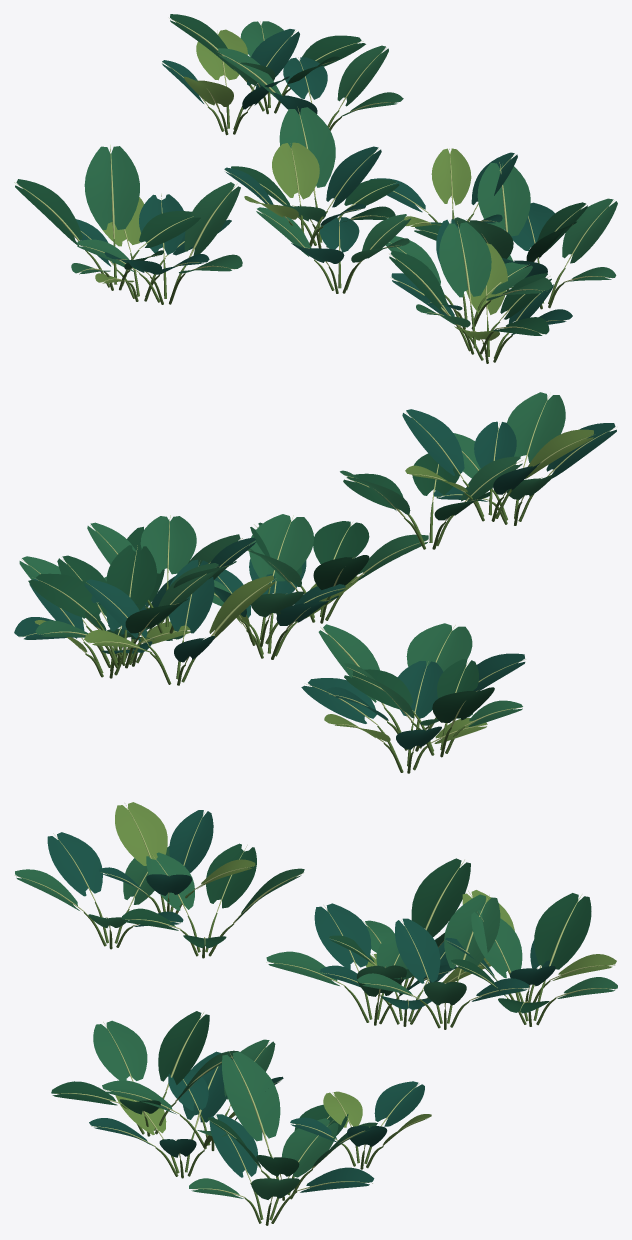
Rendered from tree_canopy.glb.
3 views of the same model, one above another, from view 1: azimuth 30°, elevation 25°; view 2: azimuth 150°, elevation 25°; view 3: azimuth 270°, elevation 25° (orthographic). The views are drawn at different scales.
Parts seen in each view (by area): view 1: tree_canopy; view 2: tree_canopy; view 3: tree_canopy.
Boxes of the visible parts, x1,y1,x2,y2 form: tree_canopy: [14, 14, 617, 363]; tree_canopy: [14, 392, 616, 773]; tree_canopy: [14, 802, 617, 1225].
Size of the model in its own units: 6.31 by 2.9 by 6.48.
